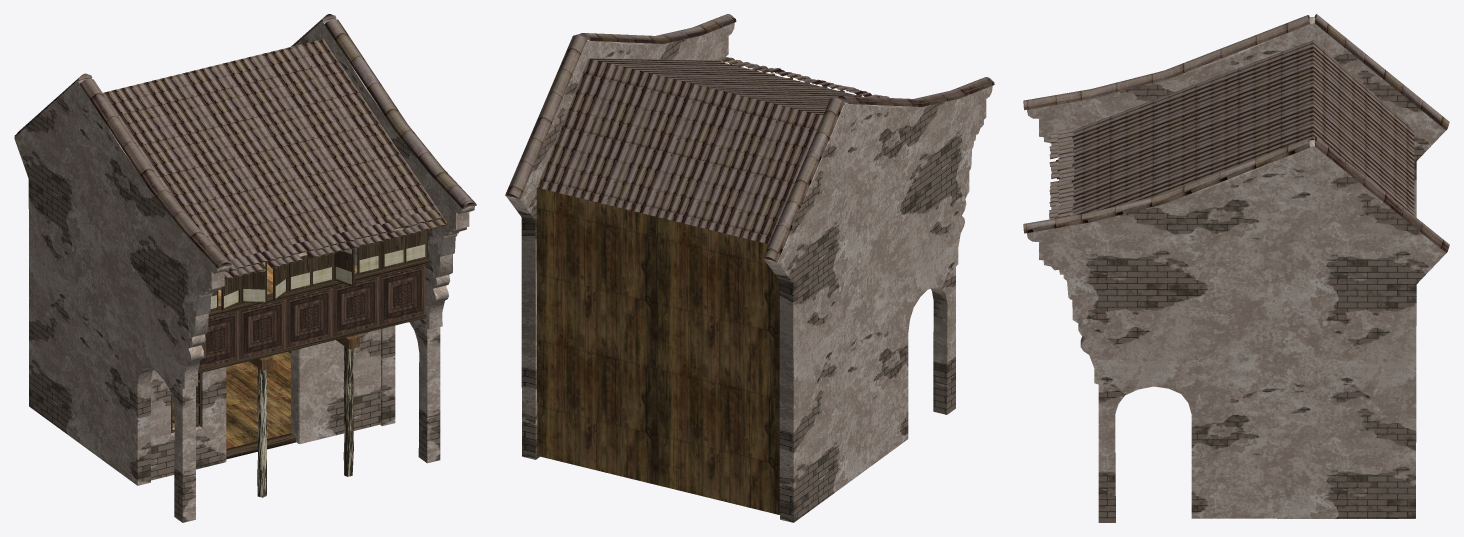
Rendered from house3_LOD1.FBX.
3 views of the same model, side by side, from view 1: azimuth 30°, elevation 25°; view 2: azimuth 150°, elevation 25°; view 3: azimuth 270°, elevation 25° (orthographic). The views are drawn at different scales.
Parts seen in each view (by area): view 1: walls_LOD1, roof_LOD1, rooftiles_LOD1, frontpanels_LOD1, windowframes_LOD1, backwall_LOD1, column1_LOD1, paperwindows_LOD1, window_LOD1; view 2: walls_LOD1, backwall_LOD1, roof_LOD1, rooftiles_LOD1; view 3: walls_LOD1, roof_LOD1, rooftiles_LOD1.
Boxes of the visible parts, x1,y1,x2,y2 form: walls_LOD1: [14, 18, 474, 522]; roof_LOD1: [103, 39, 442, 260]; rooftiles_LOD1: [14, 14, 476, 279]; frontpanels_LOD1: [198, 265, 425, 369]; windowframes_LOD1: [208, 227, 428, 317]; backwall_LOD1: [172, 352, 290, 448]; column1_LOD1: [257, 346, 353, 497]; paperwindows_LOD1: [210, 223, 425, 308]; window_LOD1: [171, 314, 426, 459]; walls_LOD1: [506, 22, 992, 522]; backwall_LOD1: [536, 187, 779, 514]; roof_LOD1: [536, 58, 861, 243]; rooftiles_LOD1: [505, 14, 994, 262]; walls_LOD1: [1027, 16, 1446, 522]; roof_LOD1: [1067, 40, 1414, 215]; rooftiles_LOD1: [1023, 14, 1449, 252].
Bounding box in the file's own units: 558 × 762 × 770.
